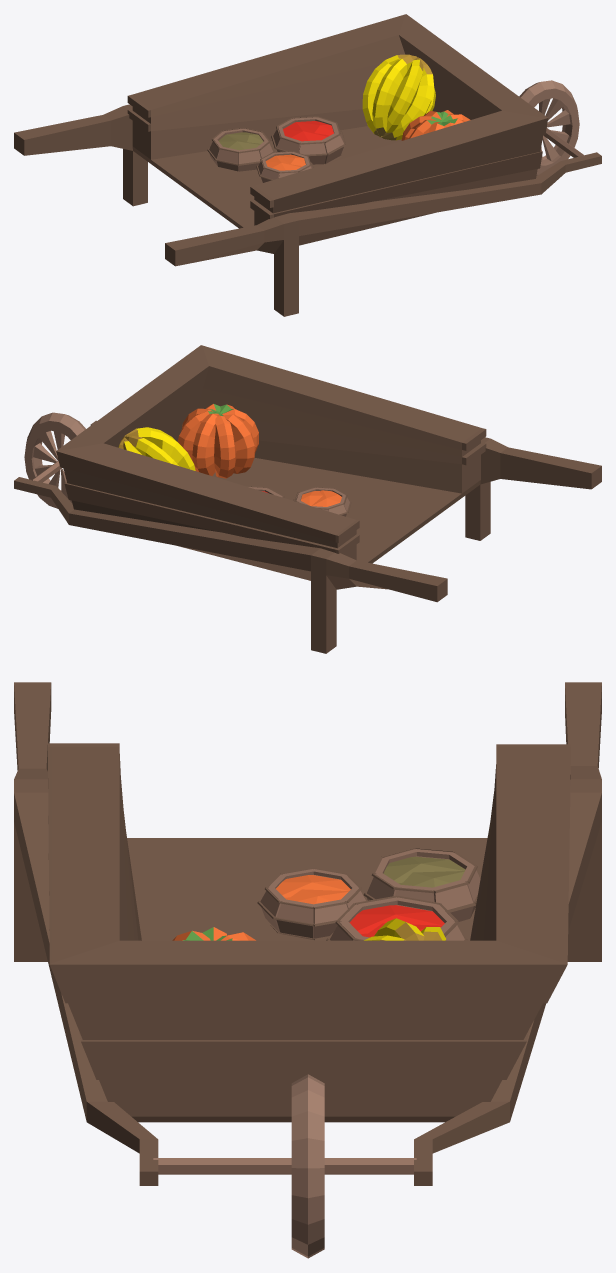
The model's file is wheelbarrow-type-002.obj.
3 views of the same model, one above another, from view 1: azimuth 30°, elevation 25°; view 2: azimuth 150°, elevation 25°; view 3: azimuth 270°, elevation 25° (orthographic). The views are drawn at different scales.
Visible parts, largest first — view 1: wheelbarrow-type-002; view 2: wheelbarrow-type-002; view 3: wheelbarrow-type-002.
Boxes of the visible parts, x1,y1,x2,y2 form: wheelbarrow-type-002: (14, 14, 601, 316); wheelbarrow-type-002: (14, 345, 601, 653); wheelbarrow-type-002: (14, 682, 601, 1258).
Size of the model in its own units: 1.11 by 0.2773 by 0.6427.
